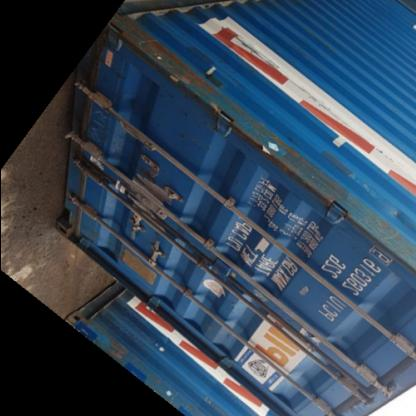Damage: (126, 24, 222, 100), (232, 102, 316, 180), (324, 177, 408, 251), (79, 110, 113, 154), (87, 40, 119, 86)
